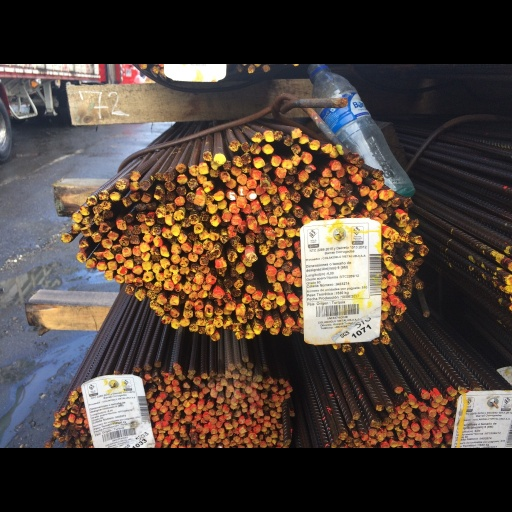dipstick: (212, 118, 227, 134), (71, 196, 85, 213), (152, 164, 166, 181), (114, 152, 128, 168), (215, 260, 229, 276), (365, 180, 379, 194), (229, 135, 242, 150), (253, 124, 265, 140), (139, 154, 151, 170), (203, 232, 215, 248), (98, 168, 110, 184), (329, 128, 342, 142), (246, 251, 259, 265), (102, 196, 115, 210), (193, 176, 206, 190), (290, 121, 302, 136), (350, 147, 362, 162), (235, 176, 247, 191), (330, 152, 342, 167), (163, 156, 176, 169), (102, 249, 115, 262), (262, 106, 274, 120), (130, 142, 142, 156), (229, 184, 241, 198), (210, 201, 222, 215), (283, 218, 295, 232), (331, 176, 345, 188), (98, 212, 110, 226), (226, 218, 238, 232), (260, 313, 272, 327), (83, 258, 95, 272), (91, 224, 103, 238), (252, 92, 266, 104), (263, 88, 274, 103), (328, 109, 339, 124), (228, 101, 239, 116), (300, 117, 311, 132), (348, 118, 359, 133), (266, 160, 277, 175), (174, 175, 185, 190), (116, 207, 127, 222), (213, 297, 224, 312), (341, 186, 352, 201), (182, 290, 193, 305), (271, 120, 281, 136), (378, 167, 388, 183), (203, 156, 213, 172), (252, 140, 262, 156), (214, 168, 224, 184), (258, 198, 268, 214), (268, 201, 278, 217), (327, 164, 339, 177), (123, 280, 136, 292), (412, 228, 424, 241), (87, 176, 99, 189), (81, 217, 93, 230), (251, 106, 262, 120), (367, 168, 378, 182), (187, 154, 198, 168), (236, 147, 247, 161), (129, 156, 140, 170), (110, 170, 121, 184), (231, 201, 242, 215), (247, 208, 258, 222), (227, 250, 238, 264), (265, 220, 276, 234), (315, 166, 326, 180), (171, 240, 182, 254), (155, 190, 166, 204), (169, 308, 180, 322), (188, 200, 199, 214), (283, 93, 293, 108), (233, 123, 243, 138), (276, 137, 286, 152), (298, 142, 308, 157), (177, 146, 187, 161), (246, 168, 256, 183), (160, 242, 170, 257), (346, 134, 358, 146), (142, 225, 154, 237), (287, 278, 296, 294), (403, 238, 415, 250), (244, 354, 256, 366), (245, 326, 254, 342), (61, 225, 73, 237), (305, 133, 316, 146), (219, 143, 230, 156), (265, 253, 276, 266), (139, 238, 150, 251), (132, 268, 143, 281), (123, 260, 134, 273), (133, 284, 144, 297), (163, 289, 174, 302), (103, 276, 114, 289), (107, 262, 118, 275), (418, 243, 429, 256), (230, 299, 241, 312), (299, 92, 309, 106), (238, 161, 248, 175), (193, 212, 203, 226), (102, 233, 112, 247), (108, 222, 118, 236), (277, 275, 287, 289), (147, 300, 157, 314), (277, 232, 287, 246), (292, 85, 301, 100), (359, 162, 368, 177), (199, 131, 208, 146), (336, 137, 345, 152), (276, 308, 285, 323), (236, 319, 245, 334), (246, 226, 255, 241), (176, 133, 187, 145), (164, 143, 176, 154), (173, 196, 184, 208), (192, 242, 204, 253), (181, 238, 192, 250), (209, 224, 220, 236), (141, 264, 152, 276), (142, 277, 153, 289), (152, 266, 163, 278), (341, 374, 353, 385), (245, 295, 256, 307), (282, 350, 293, 362), (190, 291, 202, 302), (187, 304, 198, 316), (161, 335, 172, 347), (132, 214, 143, 226), (398, 200, 409, 212), (233, 287, 244, 299), (79, 190, 91, 201), (310, 101, 320, 114), (140, 172, 150, 185), (207, 185, 217, 198), (177, 224, 187, 237), (151, 215, 161, 228), (286, 204, 296, 217), (393, 269, 403, 282), (170, 252, 180, 265), (115, 252, 125, 265), (157, 308, 167, 321), (97, 264, 107, 277), (200, 196, 210, 209), (259, 242, 269, 255), (102, 183, 112, 196), (278, 204, 286, 220), (372, 154, 381, 168), (189, 135, 198, 149), (283, 181, 292, 195), (236, 236, 245, 250), (290, 308, 299, 322), (293, 271, 302, 285), (381, 316, 390, 330), (236, 266, 245, 280), (121, 179, 132, 190), (266, 272, 277, 283), (140, 251, 151, 262), (116, 270, 127, 281), (243, 277, 254, 288), (130, 229, 141, 240), (266, 303, 277, 314), (78, 235, 89, 246), (323, 105, 331, 120), (203, 118, 213, 130), (387, 166, 395, 181), (154, 144, 164, 156), (188, 252, 198, 264), (162, 220, 172, 232), (274, 218, 284, 230), (323, 138, 333, 150), (322, 178, 332, 190), (122, 244, 132, 256), (125, 294, 135, 306), (284, 340, 296, 350), (197, 300, 207, 312), (170, 326, 180, 338), (293, 285, 303, 297), (236, 336, 248, 346), (223, 286, 235, 296), (92, 190, 102, 202), (378, 198, 388, 210), (357, 123, 364, 140), (257, 162, 266, 175), (130, 170, 139, 183), (310, 195, 319, 208), (274, 290, 282, 304), (240, 107, 250, 118), (209, 139, 219, 150), (135, 199, 145, 210), (390, 311, 400, 322), (388, 283, 398, 294), (178, 270, 189, 280), (172, 280, 182, 291), (292, 172, 302, 183), (226, 318, 236, 329), (189, 345, 199, 356), (179, 339, 190, 349), (194, 283, 204, 294), (220, 225, 230, 236), (213, 341, 223, 352), (359, 140, 368, 152), (247, 154, 256, 166), (154, 232, 163, 244), (286, 148, 295, 160), (180, 258, 189, 270), (165, 202, 174, 214), (207, 282, 216, 294), (132, 243, 141, 255), (155, 278, 164, 290), (136, 302, 145, 314), (319, 192, 328, 204), (381, 362, 390, 374), (356, 376, 365, 388), (253, 302, 262, 314), (253, 349, 262, 361), (175, 291, 184, 303), (380, 330, 389, 342), (274, 190, 282, 203), (185, 315, 193, 328), (285, 247, 293, 260), (227, 170, 237, 180), (119, 232, 129, 242), (160, 260, 170, 270), (270, 350, 280, 360), (387, 296, 396, 307), (404, 251, 415, 260), (207, 250, 216, 261), (205, 350, 214, 361), (275, 248, 284, 259), (233, 345, 242, 356), (254, 327, 263, 338), (72, 212, 81, 223), (218, 184, 227, 195), (274, 90, 282, 102), (374, 140, 382, 152), (171, 216, 179, 228), (200, 256, 208, 268), (295, 192, 303, 204), (211, 356, 219, 368), (156, 323, 164, 335), (214, 324, 222, 336), (416, 288, 424, 300), (77, 252, 85, 264), (314, 180, 323, 190), (171, 342, 180, 352), (150, 316, 159, 326), (266, 341, 274, 352), (195, 317, 203, 328), (393, 336, 403, 344), (403, 304, 411, 314), (146, 205, 154, 214)
